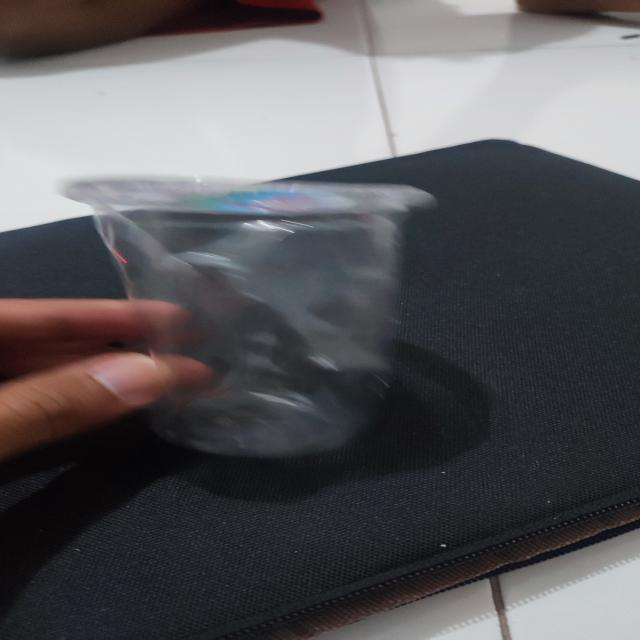air-gelas-rusak: (58, 160, 450, 467)
